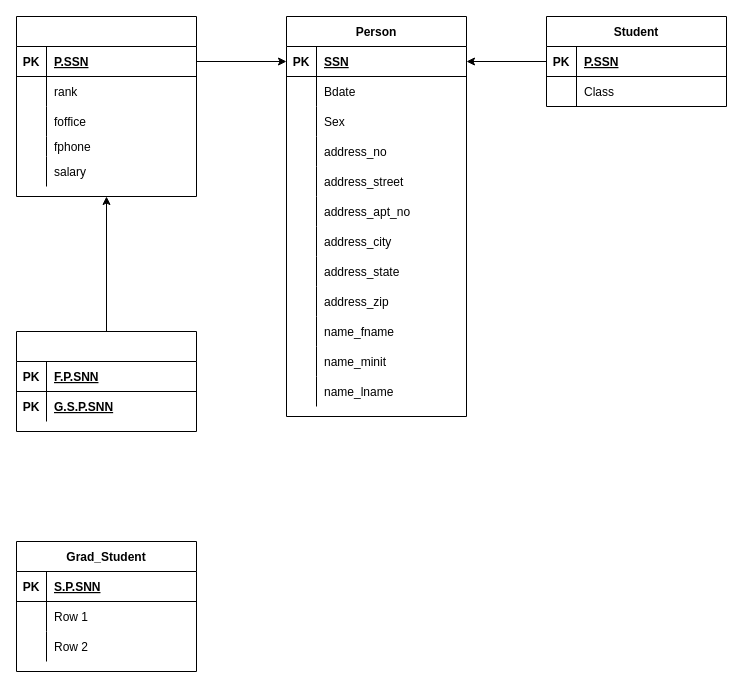
This 743x688 diagram has some shape labels left out. The shapes that lost their labels are listed below. From the top down, each one's box as (x1, y1, x2, y2) in pixels, then its label:
(16, 16, 196, 196): Faculty
(16, 330, 196, 432): Committee
